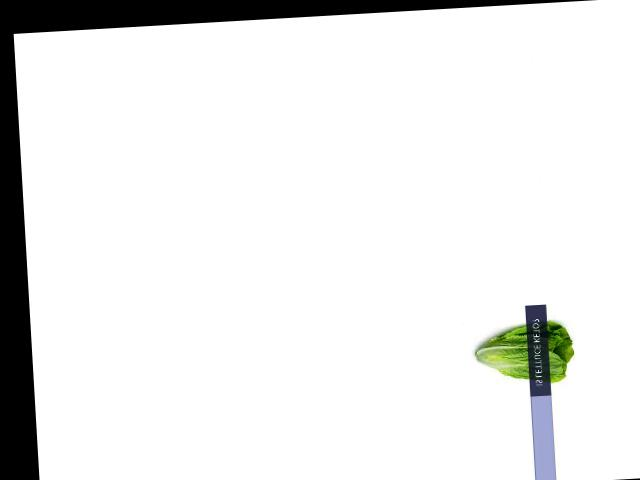lettuce: (464, 314, 575, 390)
